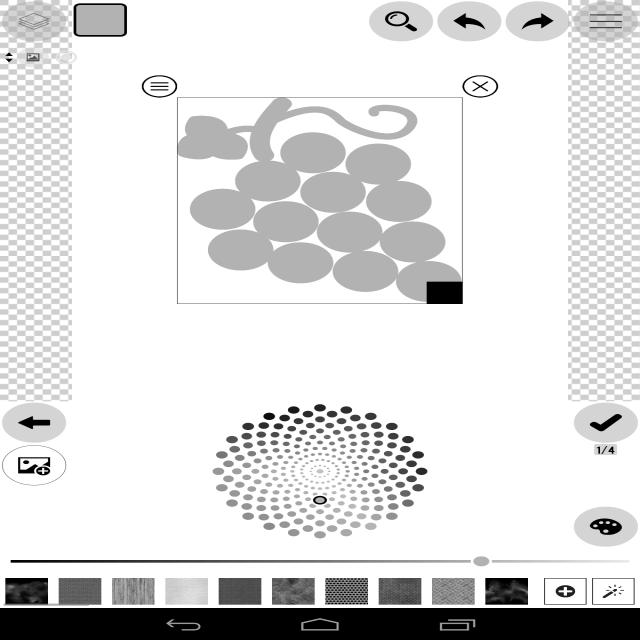Button: (74, 3, 127, 37)
ImageButton: (2, 1, 66, 42), (369, 1, 433, 42), (438, 1, 502, 42), (506, 1, 570, 42), (574, 1, 638, 42), (574, 506, 638, 546), (2, 402, 66, 442), (2, 446, 66, 486), (574, 402, 638, 442), (544, 578, 587, 605), (592, 578, 635, 605)
ImageView: (16, 501, 624, 521), (5, 578, 48, 605), (112, 578, 155, 605), (165, 578, 208, 605), (272, 578, 315, 605), (325, 578, 368, 605), (432, 578, 475, 605), (485, 578, 528, 605), (59, 578, 101, 605), (219, 578, 261, 605), (379, 578, 421, 605), (17, 48, 49, 68), (51, 410, 77, 426), (179, 410, 205, 426), (307, 410, 333, 426), (435, 410, 461, 426), (563, 410, 589, 426), (1, 52, 17, 62)
RadioButton: (49, 47, 83, 68)
TextView: (273, 528, 367, 540), (596, 444, 615, 455)
